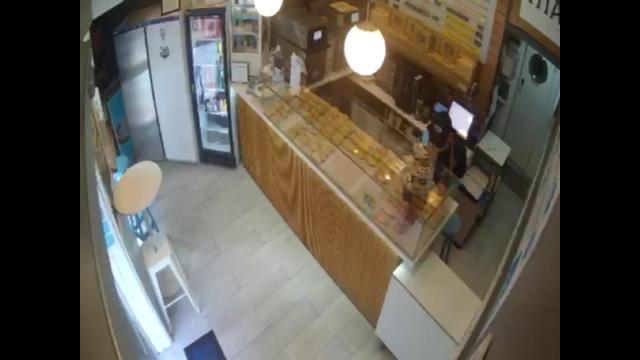empleado: (428, 102, 466, 178)
